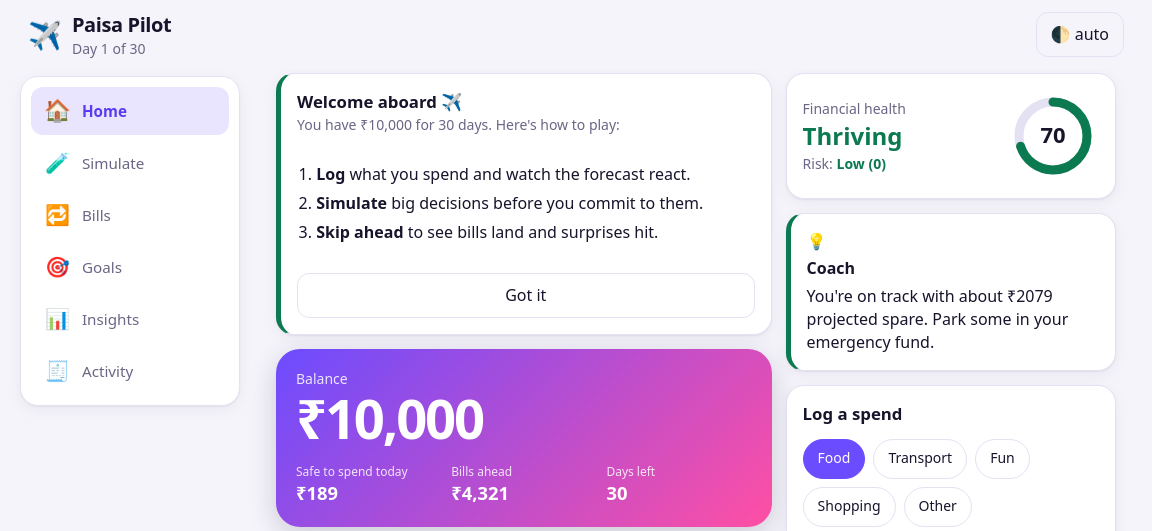
it: App › navigates to the simulator via the nav bar
Click the button "🧪 Simulate" at coordinates (130, 163), box 31,139 -> 229,187
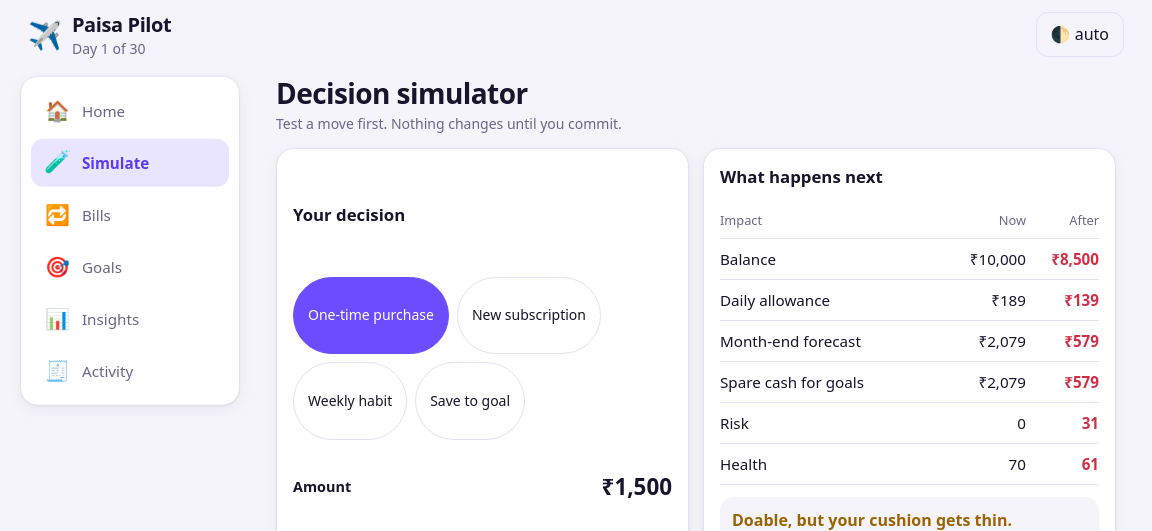
Check: the heading "Decision simulator" is shown, box 276,74 -> 528,112
